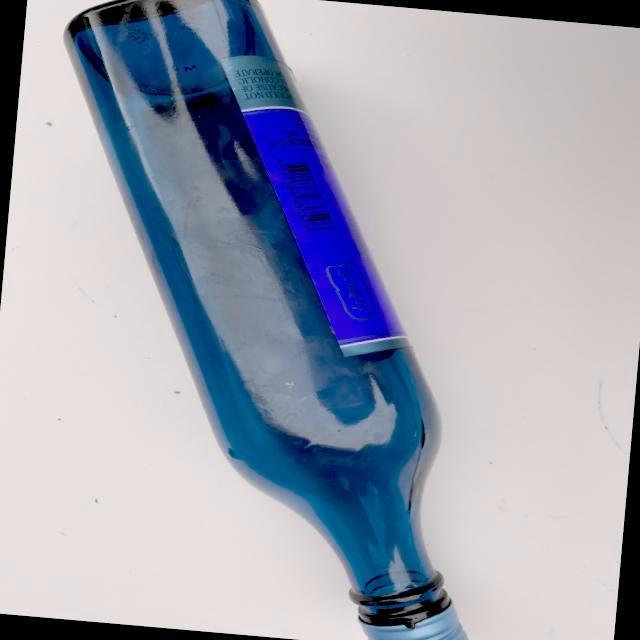glass: (2, 0, 531, 640)
